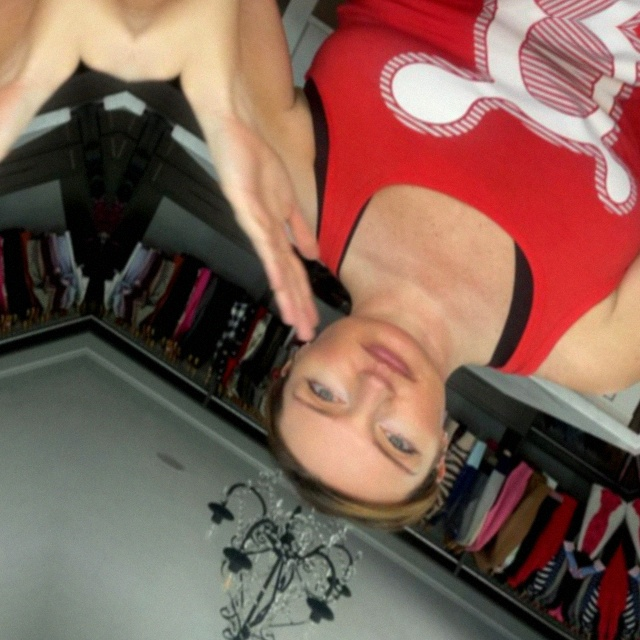Paper: (0, 58, 60, 304)
